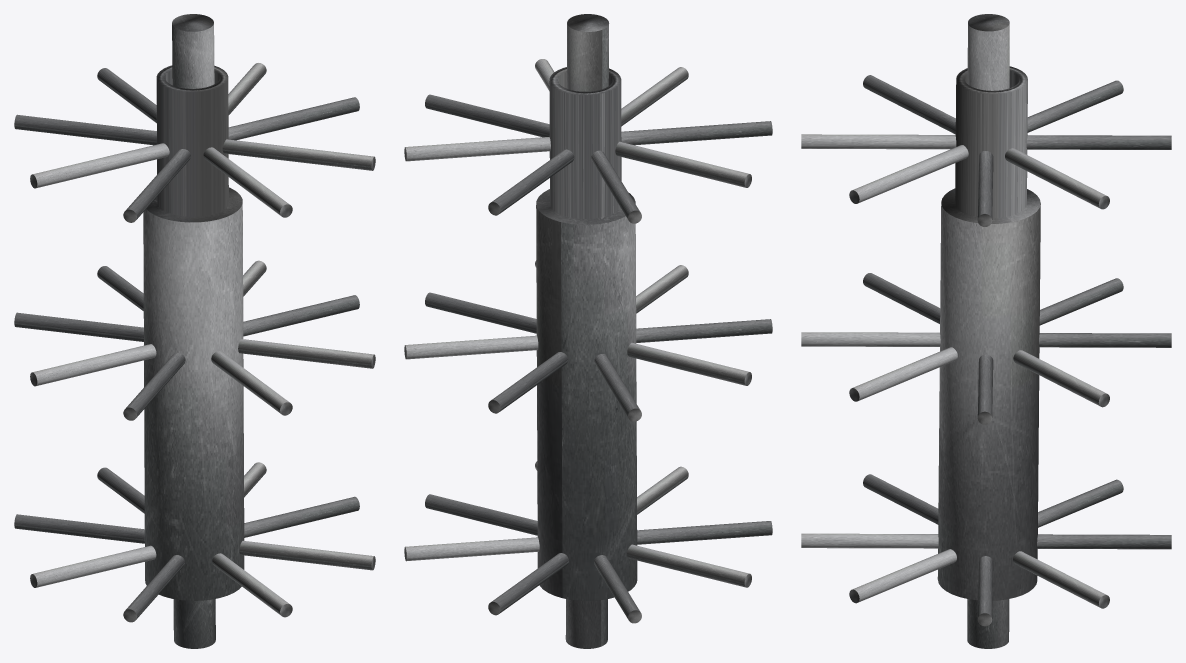
The model's file is pieza10.fbx.
The picture shows the model from 3 angles, left to right: view 1: azimuth 30°, elevation 25°; view 2: azimuth 150°, elevation 25°; view 3: azimuth 270°, elevation 25°; orthographic projection.
Parts seen in each view (by area): view 1: Cylinder.051; view 2: Cylinder.051; view 3: Cylinder.051.
Part boxes in pixels (x1,y1,x2,y2): Cylinder.051: (14,14,375,648); Cylinder.051: (404,14,772,648); Cylinder.051: (801,14,1171,648).
Size of the model in its own units: 175 by 322 by 175.
16 materials, 16 textured.
